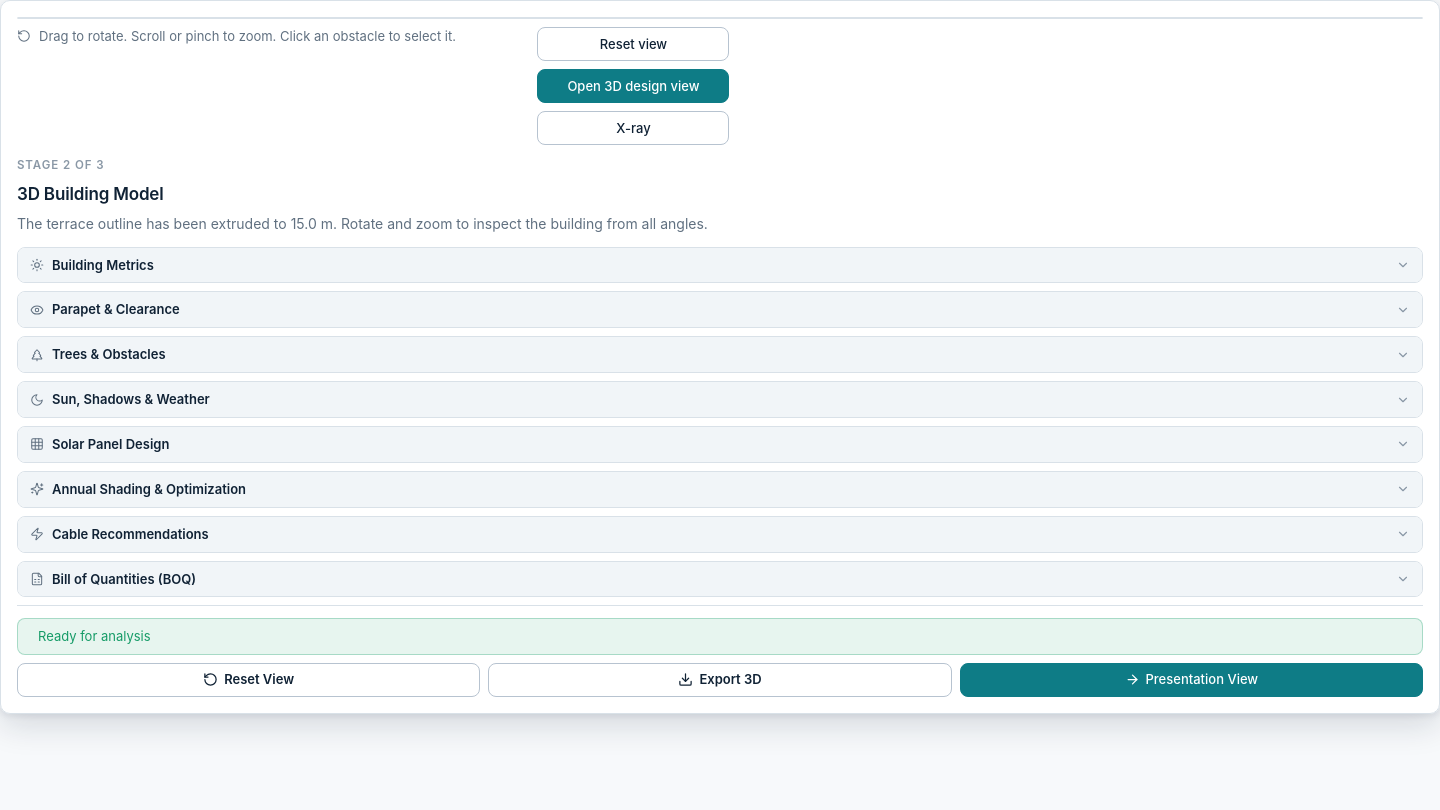
Test: ModelPanel design correction › toggles X-ray mode reversibly
Click the button "X-ray".
click(634, 128)  # box [538, 111, 730, 145]
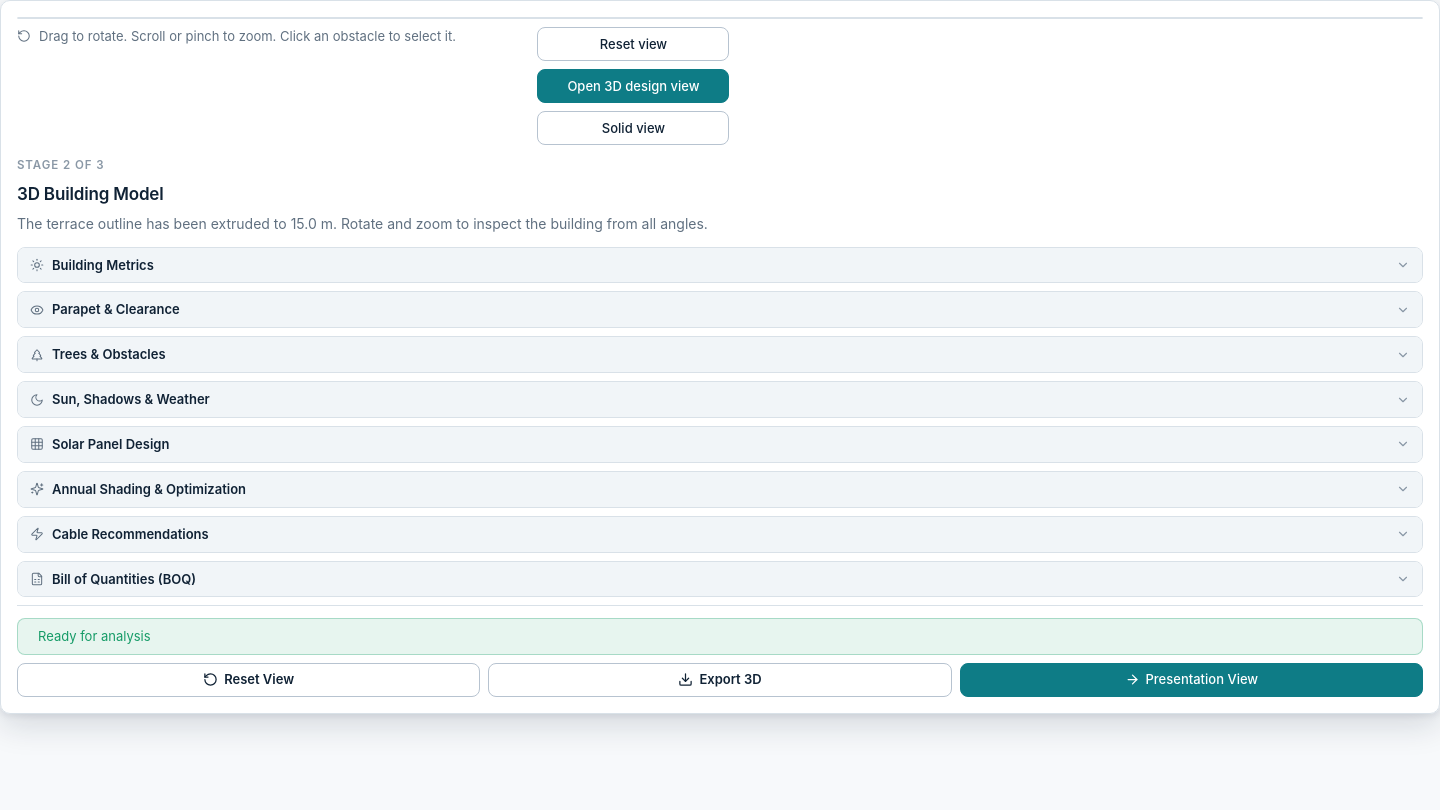
Now the button "Solid view" is pressed
Click the button "Solid view".
click(634, 128)  # box [538, 111, 730, 145]
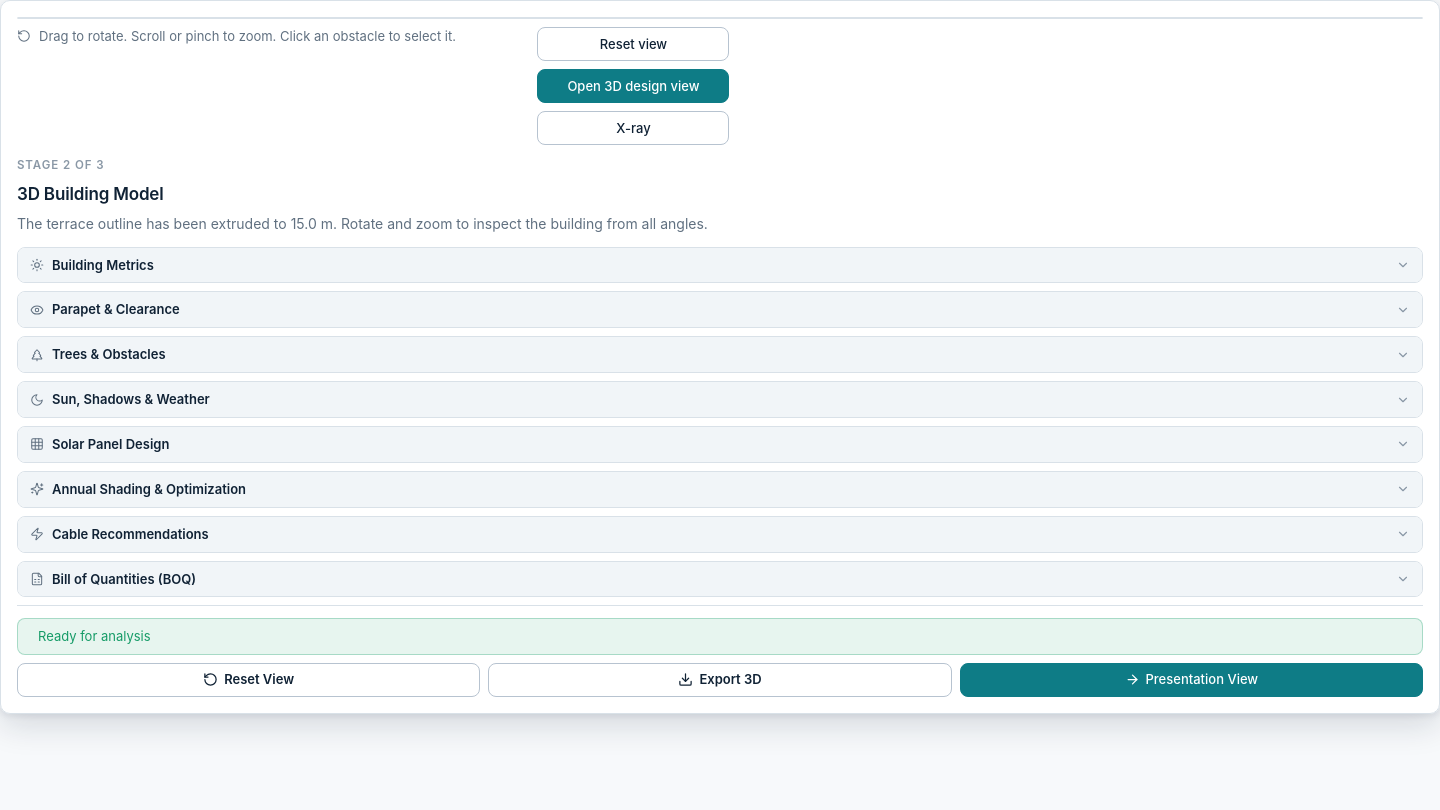
Now the button "X-ray" is shown, box [538, 111, 730, 145]
